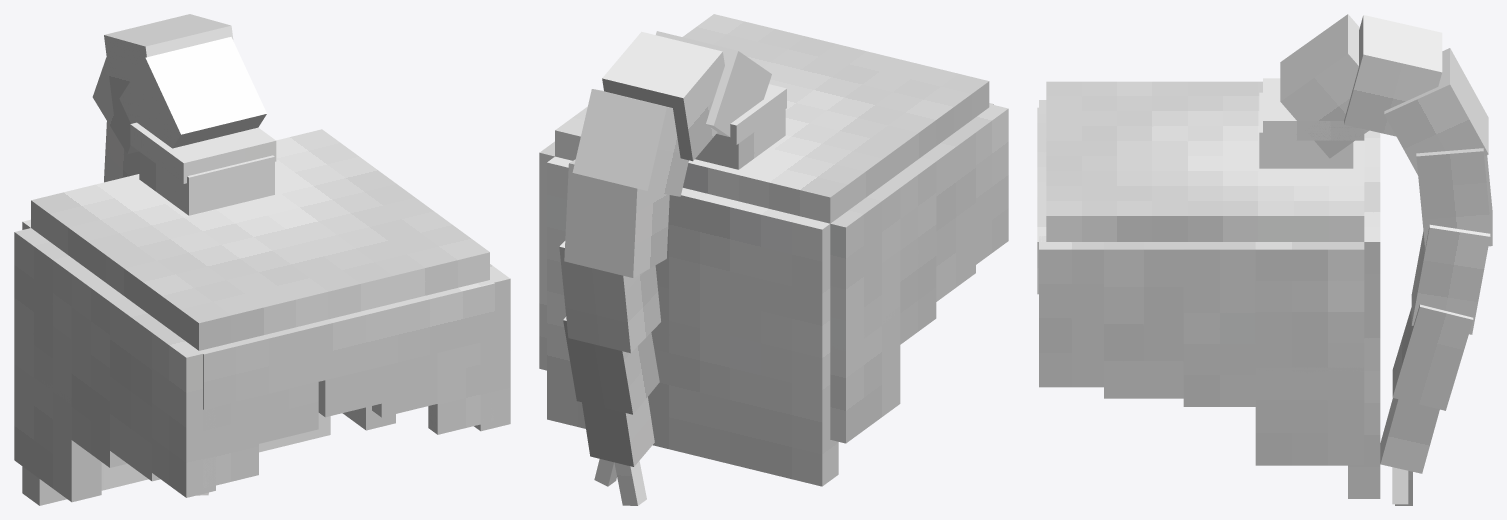
File: ponytail-textured.gltf
3 views of the same model, side by side, from view 1: azimuth 30°, elevation 25°; view 2: azimuth 150°, elevation 25°; view 3: azimuth 270°, elevation 25° (orthographic). The views are drawn at different scales.
Parts seen in each view (by area): view 1: 정수리, 옆머리 L (×3), 앞머리 이마, 꼬리 1, 관자놀이 옆 L, 옆 뒤쪽 L, 묶은 자리, 꼬리 2, 머리끈, 앞머리 1, 관자놀이 옆 R, 앞머리 5 (+7 smaller); view 2: 뒤통수, 정수리, 옆머리 L (×3), 꼬리 4, 꼬리 3, 꼬리 2, 꼬리 5, 옆 뒤쪽 L, 꼬리 6, 관자놀이 옆 L, 꼬리 1, 꼬리 7 (+5 smaller); view 3: 정수리, 옆머리 R (×3), 옆 뒤쪽 R, 관자놀이 옆 R, 꼬리 2, 꼬리 1, 뒤통수, 꼬리 3, 꼬리 6, 꼬리 4, 꼬리 5, 꼬리 7 (+4 smaller).
Boxes of the visible parts, bbox=[...] form: 정수리: bbox=[31, 129, 489, 350]; 옆머리 L (×3): bbox=[14, 228, 167, 481]; 앞머리 이마: bbox=[200, 283, 494, 409]; 꼬리 1: bbox=[119, 37, 266, 148]; 관자놀이 옆 L: bbox=[152, 328, 215, 497]; 옆 뒤쪽 L: bbox=[14, 363, 101, 502]; 묶은 자리: bbox=[139, 152, 274, 215]; 꼬리 2: bbox=[104, 14, 233, 120]; 머리끈: bbox=[130, 122, 276, 183]; 앞머리 1: bbox=[203, 396, 258, 488]; 관자놀이 옆 R: bbox=[474, 264, 510, 431]; 앞머리 5: bbox=[428, 342, 493, 434]; 뒤통수: bbox=[547, 156, 838, 486]; 정수리: bbox=[555, 14, 989, 223]; 옆머리 L (×3): bbox=[830, 128, 975, 351]; 꼬리 4: bbox=[564, 159, 669, 277]; 꼬리 3: bbox=[572, 89, 688, 196]; 꼬리 2: bbox=[602, 31, 724, 161]; 꼬리 5: bbox=[559, 241, 660, 353]; 옆 뒤쪽 L: bbox=[830, 306, 900, 443]; 꼬리 6: bbox=[563, 316, 659, 414]; 관자놀이 옆 L: bbox=[960, 104, 1008, 264]; 꼬리 1: bbox=[656, 31, 771, 136]; 꼬리 7: bbox=[582, 397, 654, 466]; 정수리: bbox=[1046, 81, 1364, 241]; 옆머리 R (×3): bbox=[1104, 242, 1364, 406]; 옆 뒤쪽 R: bbox=[1255, 367, 1364, 465]; 관자놀이 옆 R: bbox=[1039, 236, 1103, 387]; 꼬리 2: bbox=[1344, 15, 1442, 136]; 꼬리 1: bbox=[1280, 14, 1368, 158]; 뒤통수: bbox=[1348, 130, 1380, 498]; 꼬리 3: bbox=[1384, 48, 1488, 174]; 꼬리 6: bbox=[1392, 304, 1473, 410]; 꼬리 4: bbox=[1416, 148, 1492, 248]; 꼬리 5: bbox=[1411, 224, 1490, 334]; 꼬리 7: bbox=[1380, 398, 1439, 473].
Size of the model in its own units: 0.6125 by 0.8673 by 0.788.
1 material, 1 textured.
